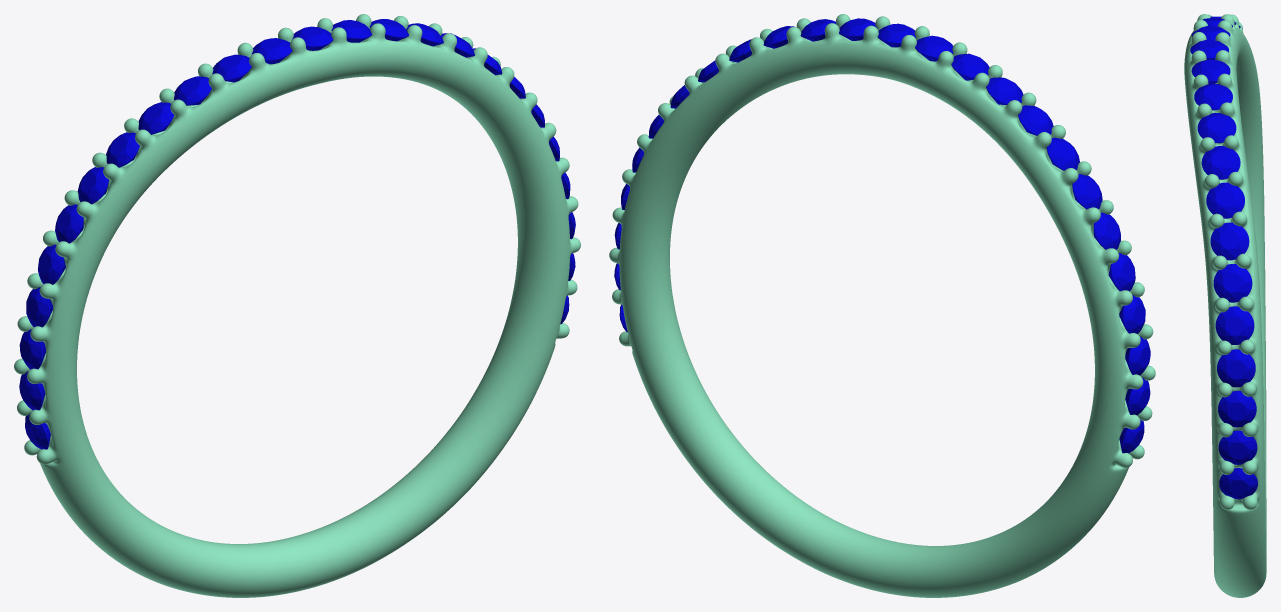
The picture shows the model from 3 angles, left to right: view 1: azimuth 30°, elevation 25°; view 2: azimuth 150°, elevation 25°; view 3: azimuth 270°, elevation 25°; orthographic projection. The views are drawn at different scales.
Visible parts, largest first — view 1: Metal03, Diamond_Band.021, Diamond_Band.020, Diamond_Band.019, Diamond_Band.022, Diamond_Band.023, Diamond_Band.018, Diamond_Band.024, Diamond_Band.017; view 2: Metal03, Diamond_Band.020, Diamond_Band.021, Diamond_Band.019, Diamond_Band.022, Diamond_Band.018, Diamond_Band.023, Diamond_Band.017, Diamond_Band.024; view 3: Metal03, Diamond_Band.009, Diamond_Band.008, Diamond_Band.010, Diamond_Band.007, Diamond_Band.011, Diamond_Band.006, Diamond_Band.012, Diamond_Band.005, Diamond_Band.013, Diamond_Band.004, Diamond_Band.003 (+3 smaller).
Boxes of the visible parts, box(x1,y1,x2,y2) form: Metal03: box(14, 14, 580, 597); Diamond_Band.021: box(106, 132, 139, 167); Diamond_Band.020: box(77, 167, 109, 204); Diamond_Band.019: box(55, 204, 83, 243); Diamond_Band.022: box(138, 102, 174, 134); Diamond_Band.023: box(174, 76, 211, 105); Diamond_Band.018: box(38, 244, 65, 284); Diamond_Band.024: box(212, 54, 251, 82); Diamond_Band.017: box(26, 287, 52, 327); Metal03: box(609, 14, 1155, 597); Diamond_Band.020: box(1072, 174, 1102, 209); Diamond_Band.021: box(1046, 137, 1079, 170); Diamond_Band.019: box(1093, 212, 1120, 249); Diamond_Band.022: box(1018, 105, 1053, 135); Diamond_Band.018: box(1108, 253, 1135, 291); Diamond_Band.023: box(986, 77, 1023, 105); Diamond_Band.017: box(1119, 295, 1145, 333); Diamond_Band.024: box(951, 53, 989, 80); Metal03: box(1184, 14, 1266, 597); Diamond_Band.009: box(1215, 306, 1254, 344); Diamond_Band.008: box(1213, 264, 1252, 302); Diamond_Band.010: box(1217, 349, 1255, 387); Diamond_Band.007: box(1210, 222, 1249, 260); Diamond_Band.011: box(1218, 391, 1256, 427); Diamond_Band.006: box(1206, 182, 1244, 218); Diamond_Band.012: box(1218, 430, 1257, 464); Diamond_Band.005: box(1201, 146, 1240, 179); Diamond_Band.013: box(1219, 468, 1257, 499); Diamond_Band.004: box(1197, 113, 1236, 143); Diamond_Band.003: box(1194, 83, 1232, 110).
Bounding box in the file's own units: 21.29 × 21.07 × 2.98.
